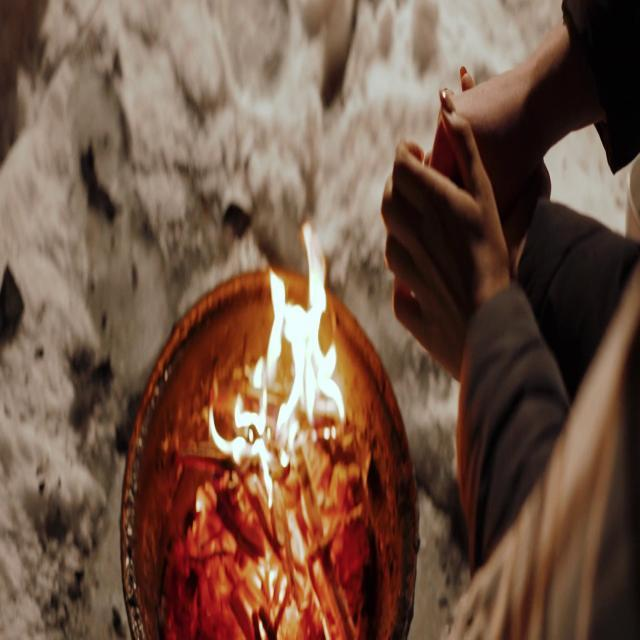Fire: (222, 226, 346, 634)
